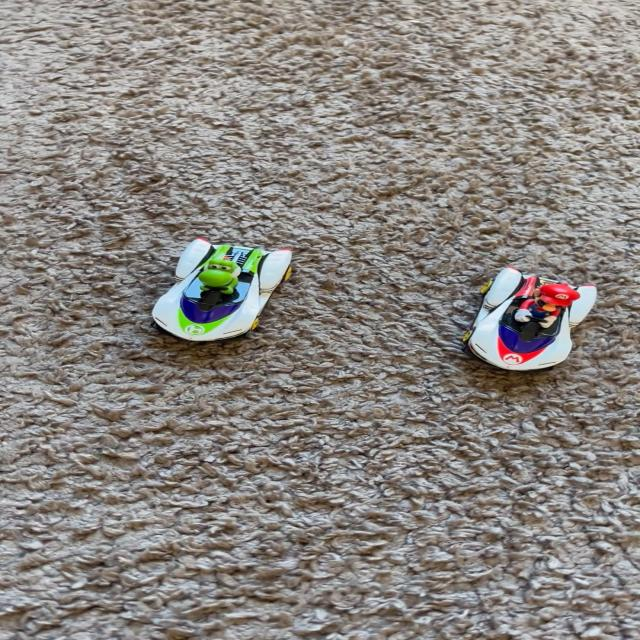mario: (446, 263, 614, 377)
yoshi: (136, 228, 326, 346)
